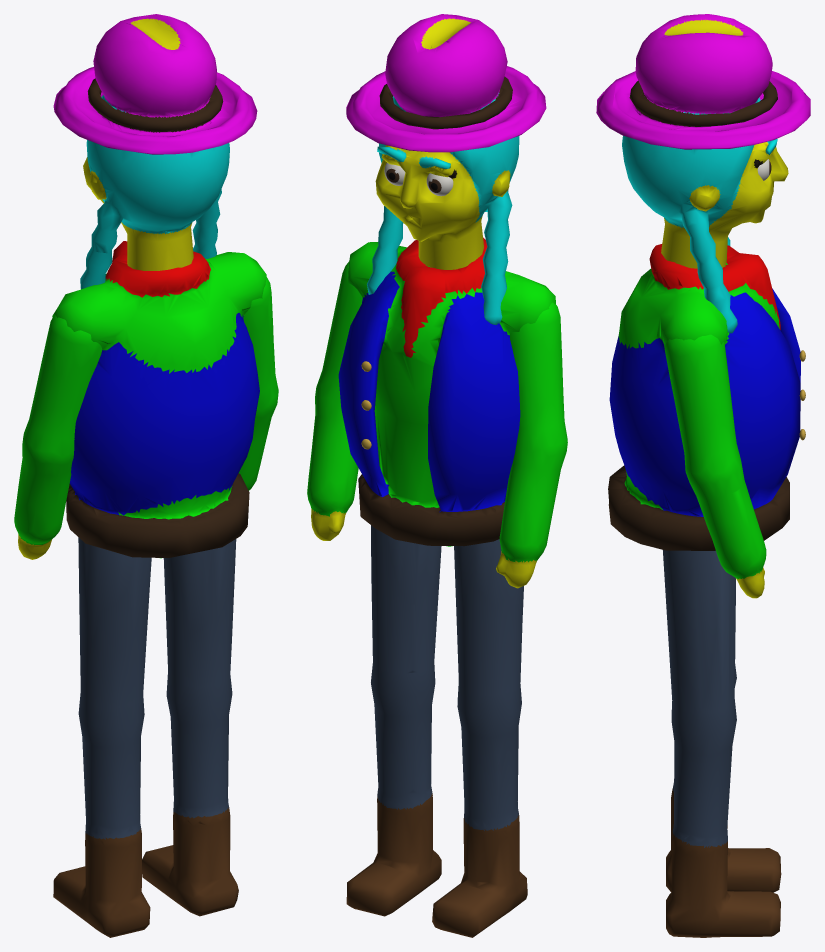
File: avatar-girl.glb
3 views of the same model, side by side, from view 1: azimuth 30°, elevation 25°; view 2: azimuth 150°, elevation 25°; view 3: azimuth 270°, elevation 25° (orthographic).
Visible parts, largest first — view 1: body_lod0, head_lod0, leg_l_lod0, leg_r_lod0, arm_l_lod0, arm_r_lod0; view 2: body_lod0, head_lod0, leg_l_lod0, leg_r_lod0, arm_l_lod0, arm_r_lod0; view 3: body_lod0, head_lod0, leg_r_lod0, arm_r_lod0, leg_l_lod0.
Part boxes in pixels (bbox=[...]): body_lod0: bbox=[52, 241, 266, 558]; head_lod0: bbox=[53, 14, 257, 289]; leg_l_lod0: bbox=[53, 537, 151, 937]; leg_r_lod0: bbox=[142, 539, 238, 916]; arm_l_lod0: bbox=[14, 315, 102, 559]; arm_r_lod0: bbox=[239, 277, 278, 490]; body_lod0: bbox=[338, 237, 555, 546]; head_lod0: bbox=[346, 14, 546, 325]; leg_l_lod0: bbox=[432, 539, 527, 937]; leg_r_lod0: bbox=[346, 525, 441, 916]; arm_l_lod0: bbox=[496, 302, 567, 588]; arm_r_lod0: bbox=[307, 261, 362, 540]; body_lod0: bbox=[608, 244, 805, 550]; head_lod0: bbox=[596, 14, 810, 333]; leg_r_lod0: bbox=[663, 550, 780, 937]; arm_r_lod0: bbox=[664, 334, 766, 598]; leg_l_lod0: bbox=[666, 664, 781, 892].
Size of what is drawn, in the model's own units: 0.5941 by 2.04 by 0.4449.
